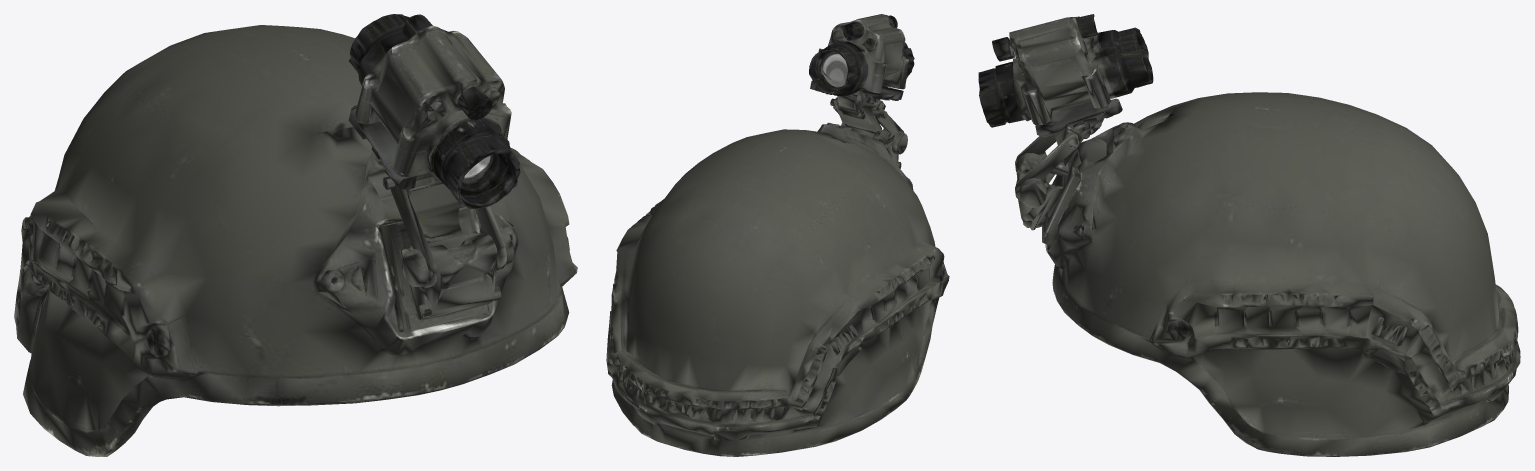
File: helmet.glb
The picture shows the model from 3 angles, left to right: view 1: azimuth 30°, elevation 25°; view 2: azimuth 150°, elevation 25°; view 3: azimuth 270°, elevation 25°; orthographic projection. The views are drawn at different scales.
Visible parts, largest first — view 1: helmet; view 2: helmet; view 3: helmet.
Part boxes in pixels (left/top/right/bottom): helmet: left=14, top=14, right=577, bottom=456; helmet: left=606, top=14, right=949, bottom=456; helmet: left=978, top=14, right=1520, bottom=456.
Size of the model in its own units: 0.4 by 0.4354 by 0.567.
1 material, 1 textured.
